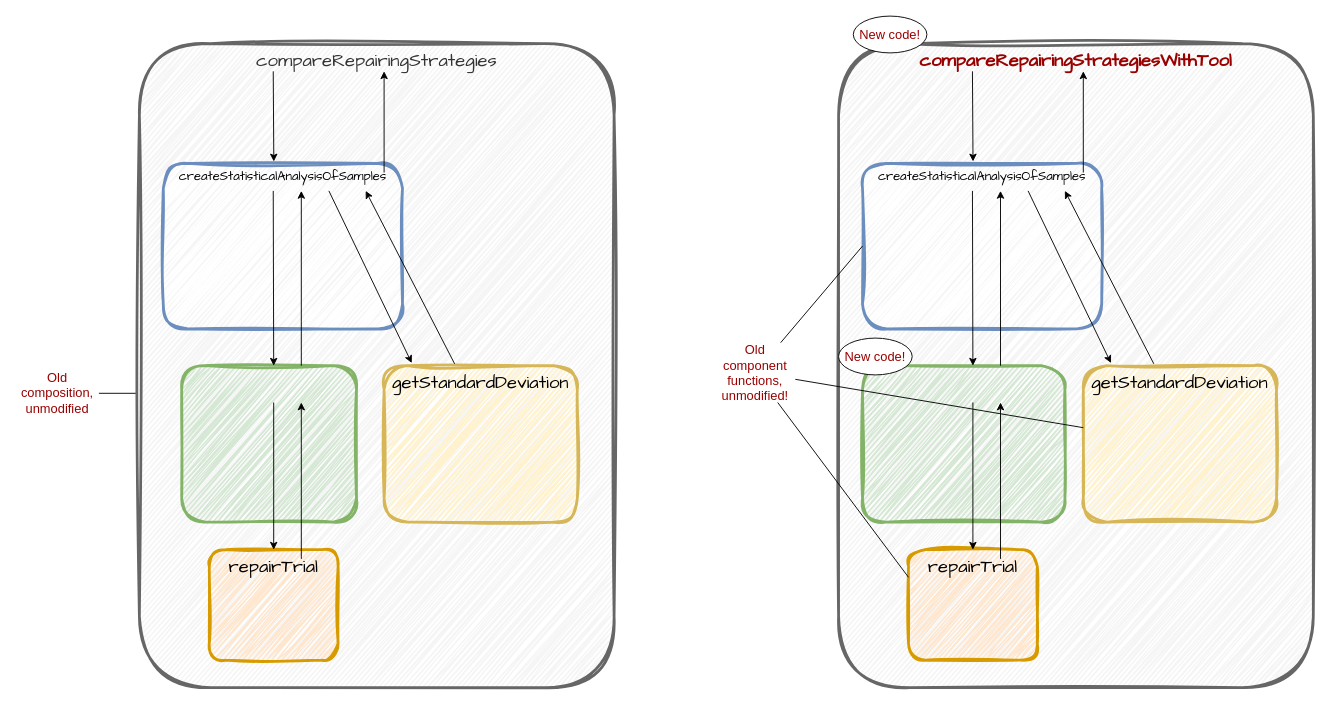
The diagram is 1330 pixels wide and 705 high, and some of its shapes have lost their labels. Each missing label, with the centre of its shape:
"executeSingleStrategy" belongs at pixel 268 443.
"singleStrategyWithTool" belongs at pixel 963 443.
